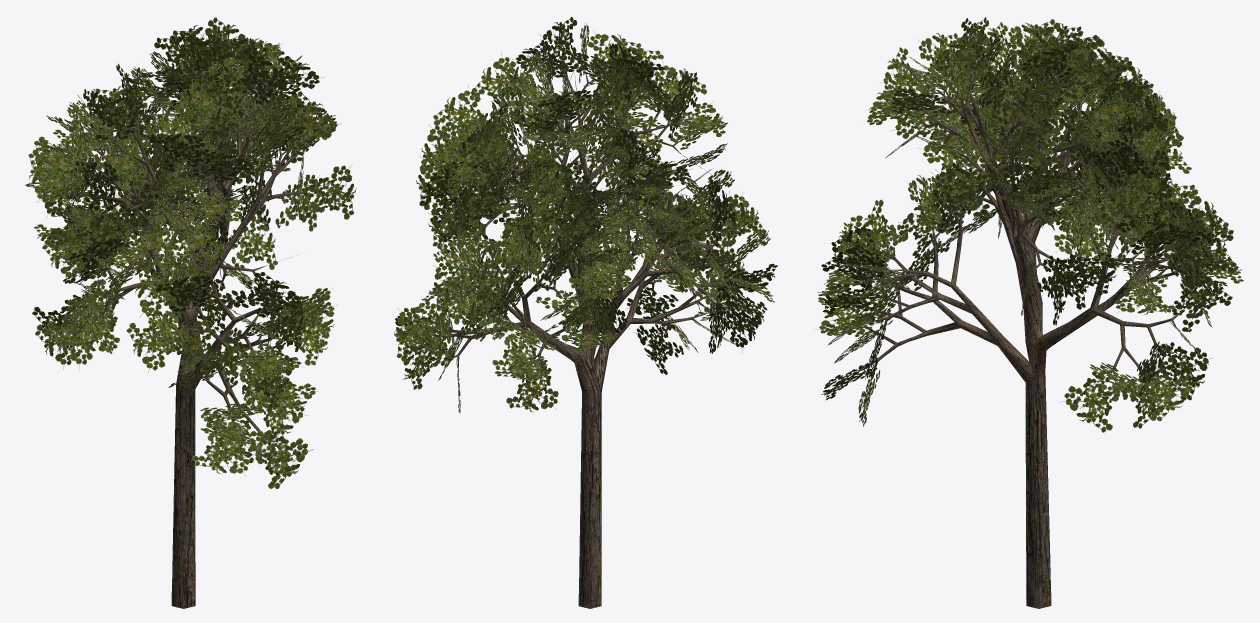
Rendered from tree.obj.
3 views of the same model, side by side, from view 1: azimuth 30°, elevation 25°; view 2: azimuth 150°, elevation 25°; view 3: azimuth 270°, elevation 25° (orthographic). The views are drawn at different scales.
Visible parts, largest first — view 1: Twig0, Tree0; view 2: Twig0, Tree0; view 3: Twig0, Tree0.
Part boxes in pixels (<box>): Twig0: <box>25,17,356,488</box>; Tree0: <box>77,81,313,608</box>; Twig0: <box>394,17,777,413</box>; Tree0: <box>434,69,734,608</box>; Twig0: <box>814,17,1243,432</box>; Tree0: <box>859,74,1185,608</box>.
Size of the model in its own units: 3.83 by 6.22 by 4.17.
Materials: 2 (2 with a texture image).
